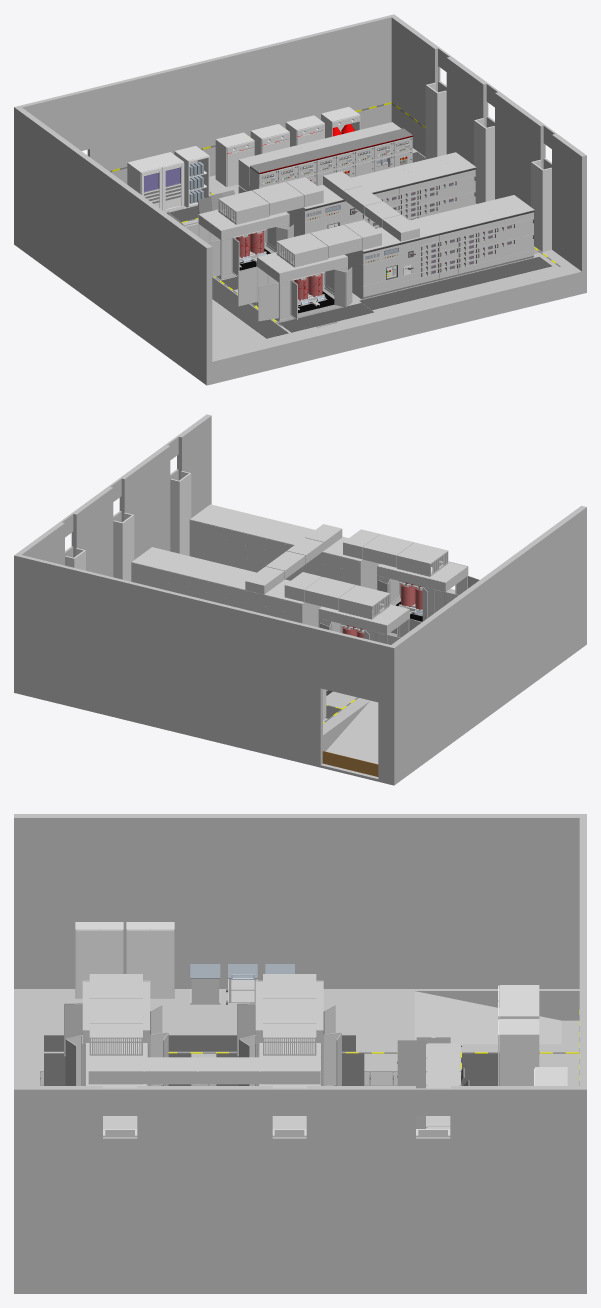
The model's file is room.glb.
3 views of the same model, one above another, from view 1: azimuth 30°, elevation 25°; view 2: azimuth 150°, elevation 25°; view 3: azimuth 270°, elevation 25° (orthographic). The views are drawn at different scales.
Visible parts, largest first — view 1: Material2 (×8), Material3 (×3); view 2: Material2 (×3), Material3 (×3); view 3: Material2 (×6), Material3 (×3).
Boxes of the visible parts, <box> form: Material2 (×8): <box>14,14,586,385</box>; Material3 (×3): <box>127,82,551,321</box>; Material2 (×3): <box>14,414,586,785</box>; Material3 (×3): <box>65,471,478,719</box>; Material2 (×6): <box>14,814,586,1293</box>; Material3 (×3): <box>65,922,567,1137</box>.
Size of the model in its own units: 741 by 256 by 651.
